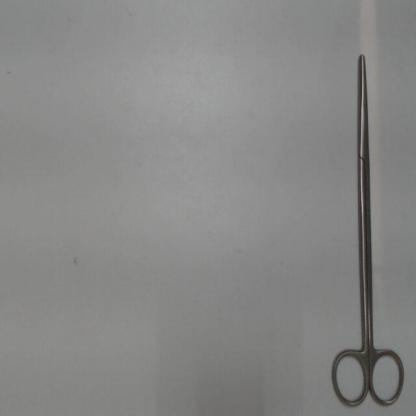9 Metzenbaum Scissors: (328, 48, 406, 411)
